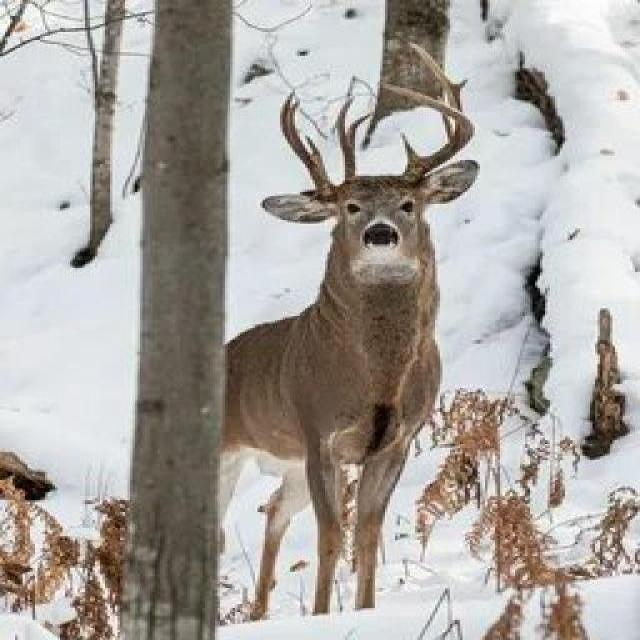deer: (124, 62, 558, 575)
